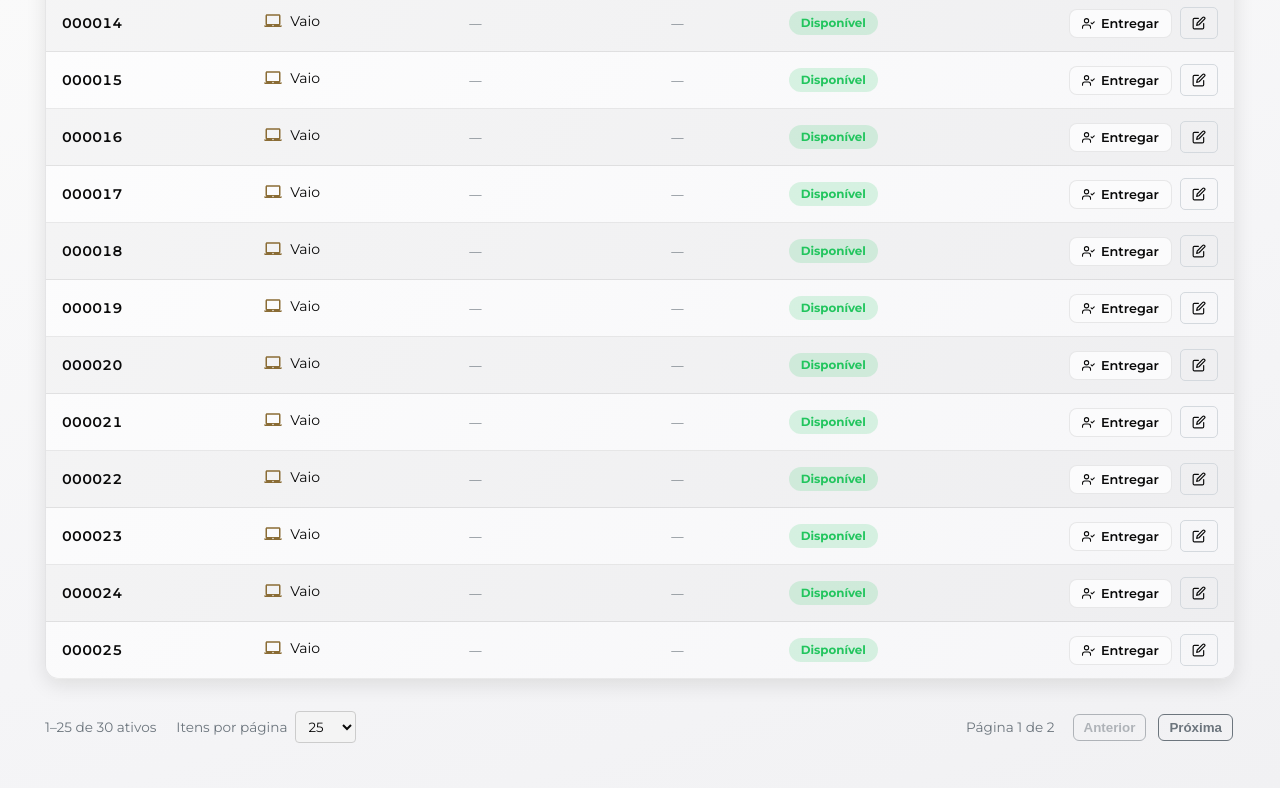
Inventário de TI › paginação › trocar o limite volta para a página 1 e fica salvo
(page scrolled)
Click the button "Próxima". click: (1196, 727)
box: [1158,714,1233,740]
(page scrolled)
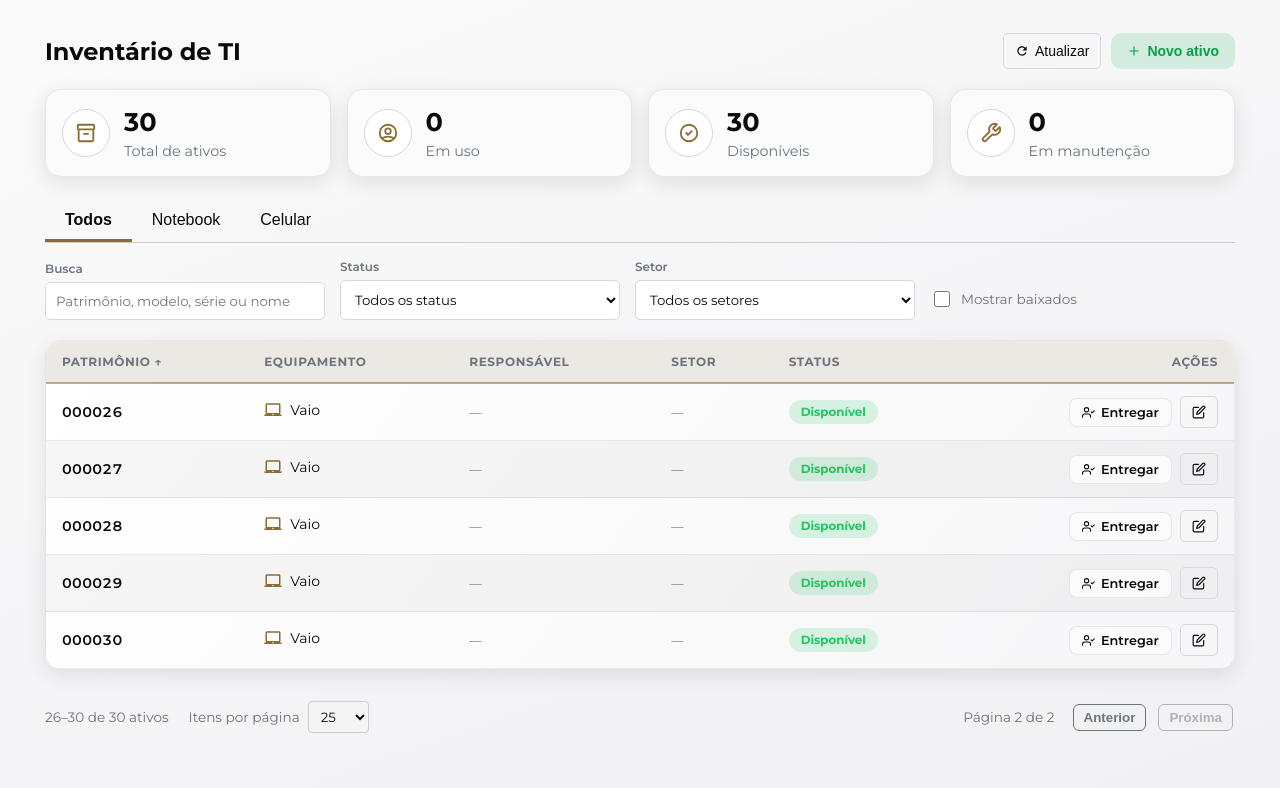
Select "10" in the dropdown labelled "Itens por página". click: (338, 717)
box: [308,701,369,733]
(page scrolled)
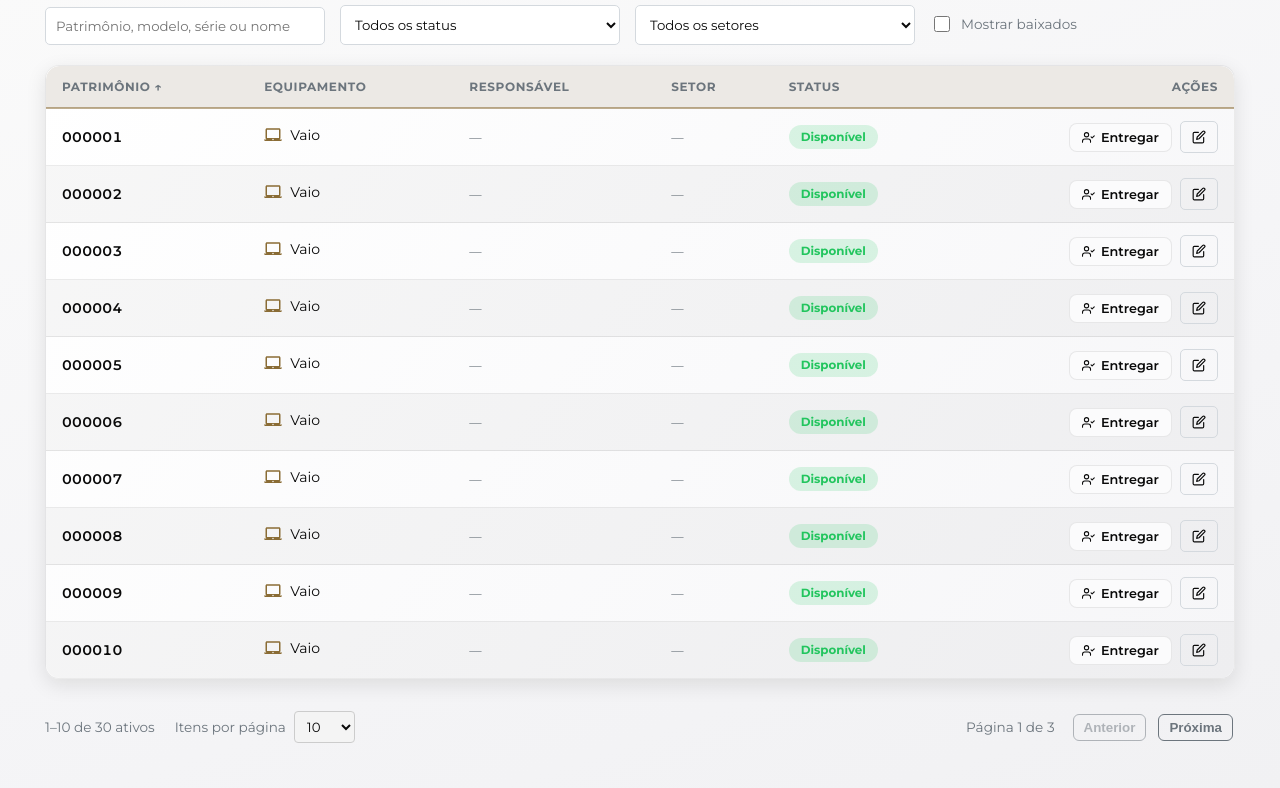
Check: the number of rows with class "inv-row" is 10
Check: the text "Página 1 de 3" is shown, box [966,719,1055,735]
